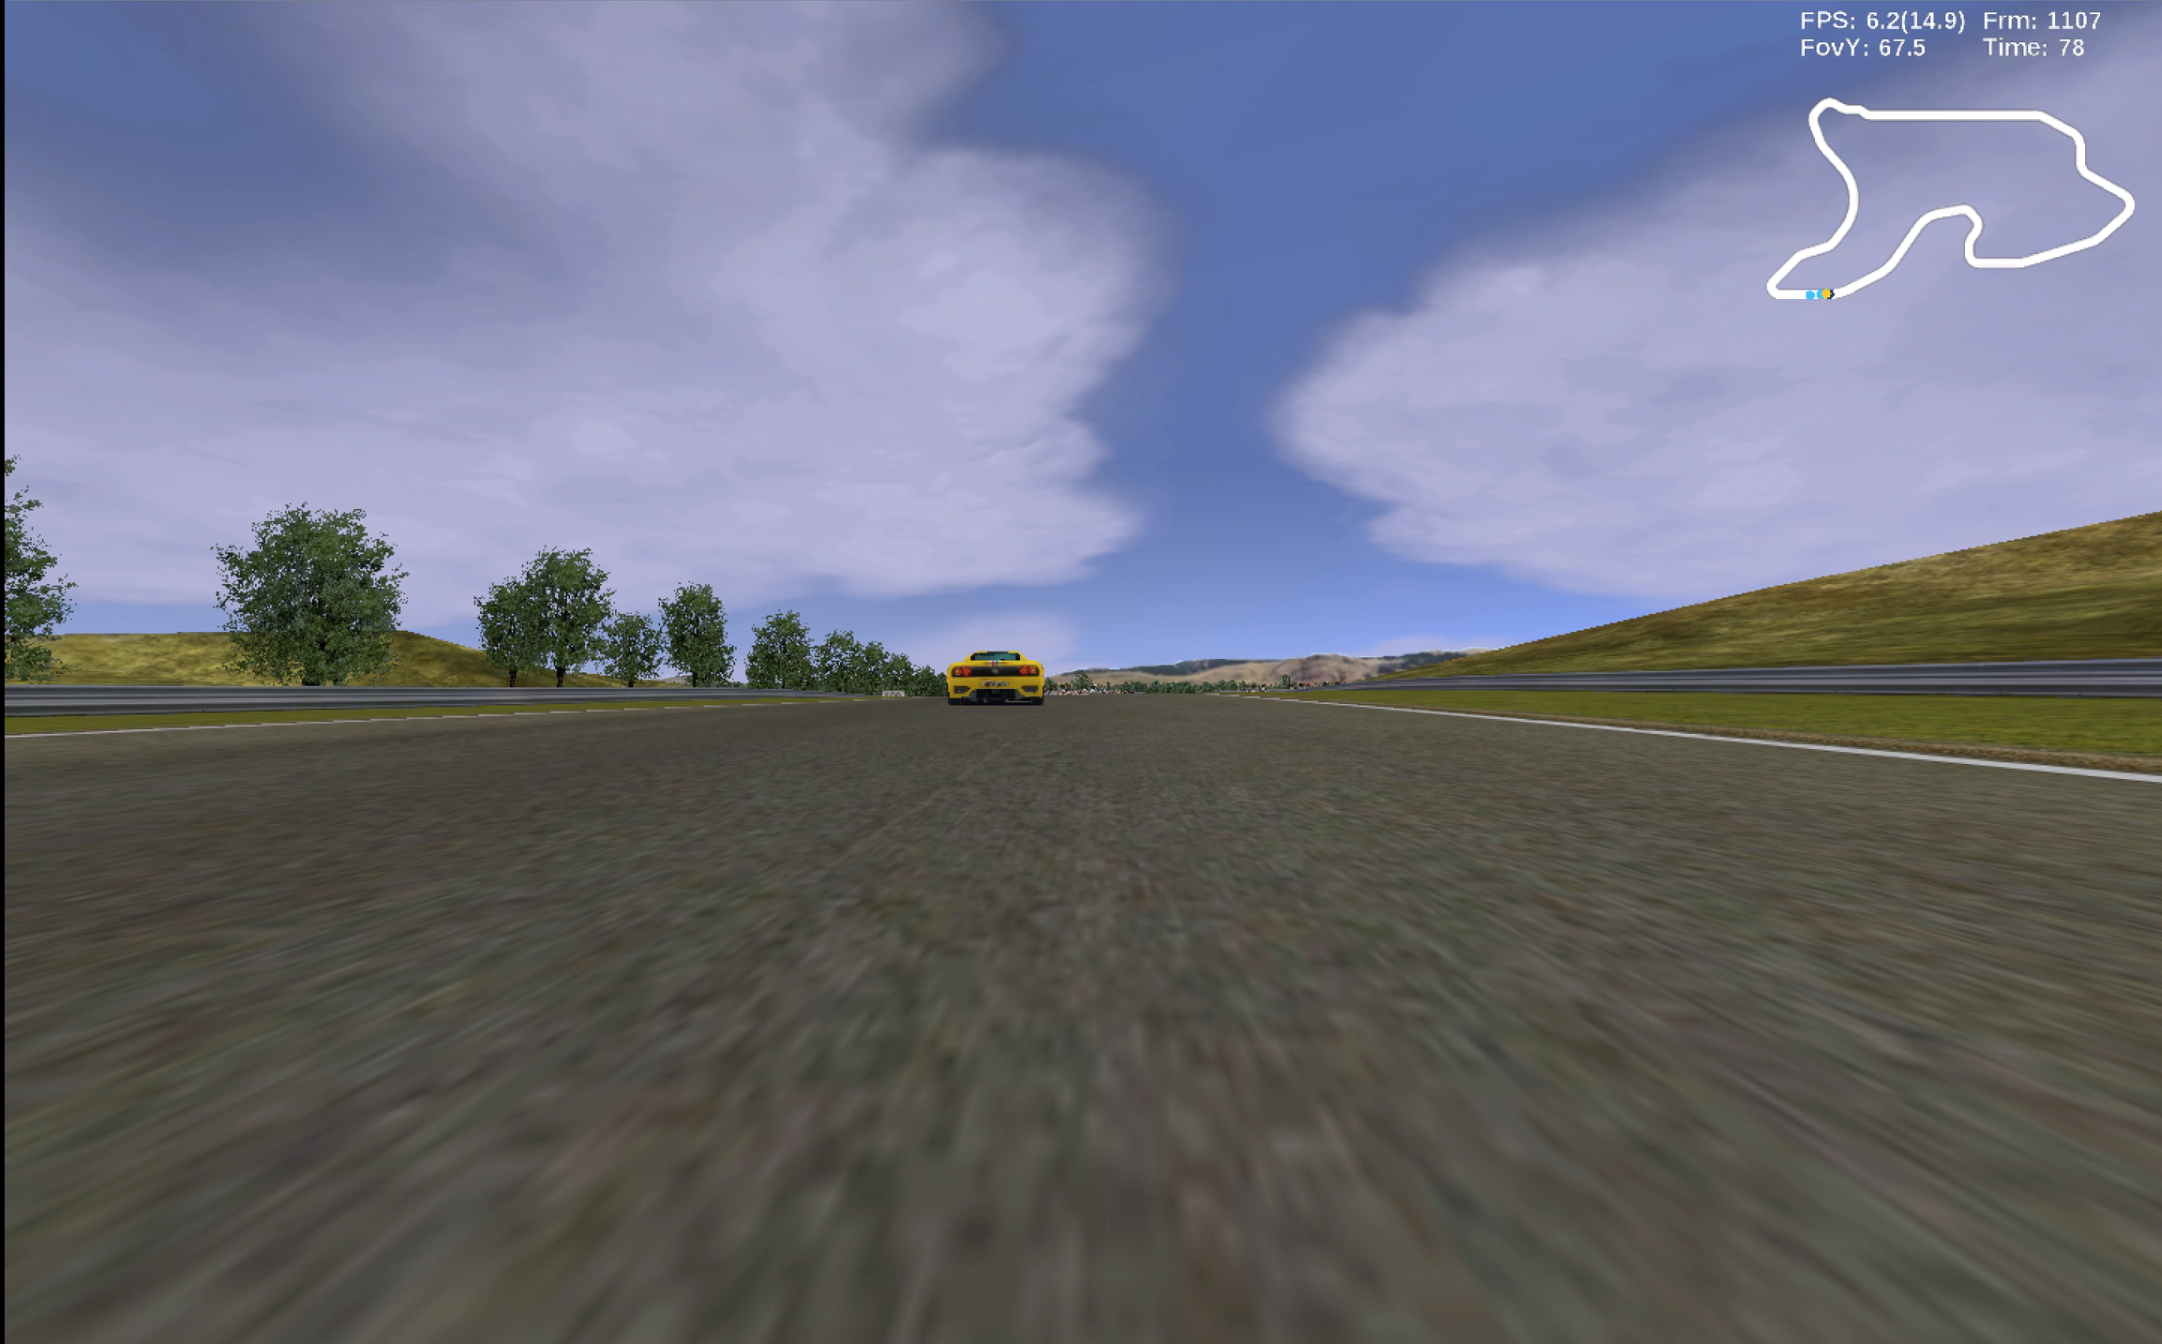Cavallo360: (942, 650, 1046, 705)
